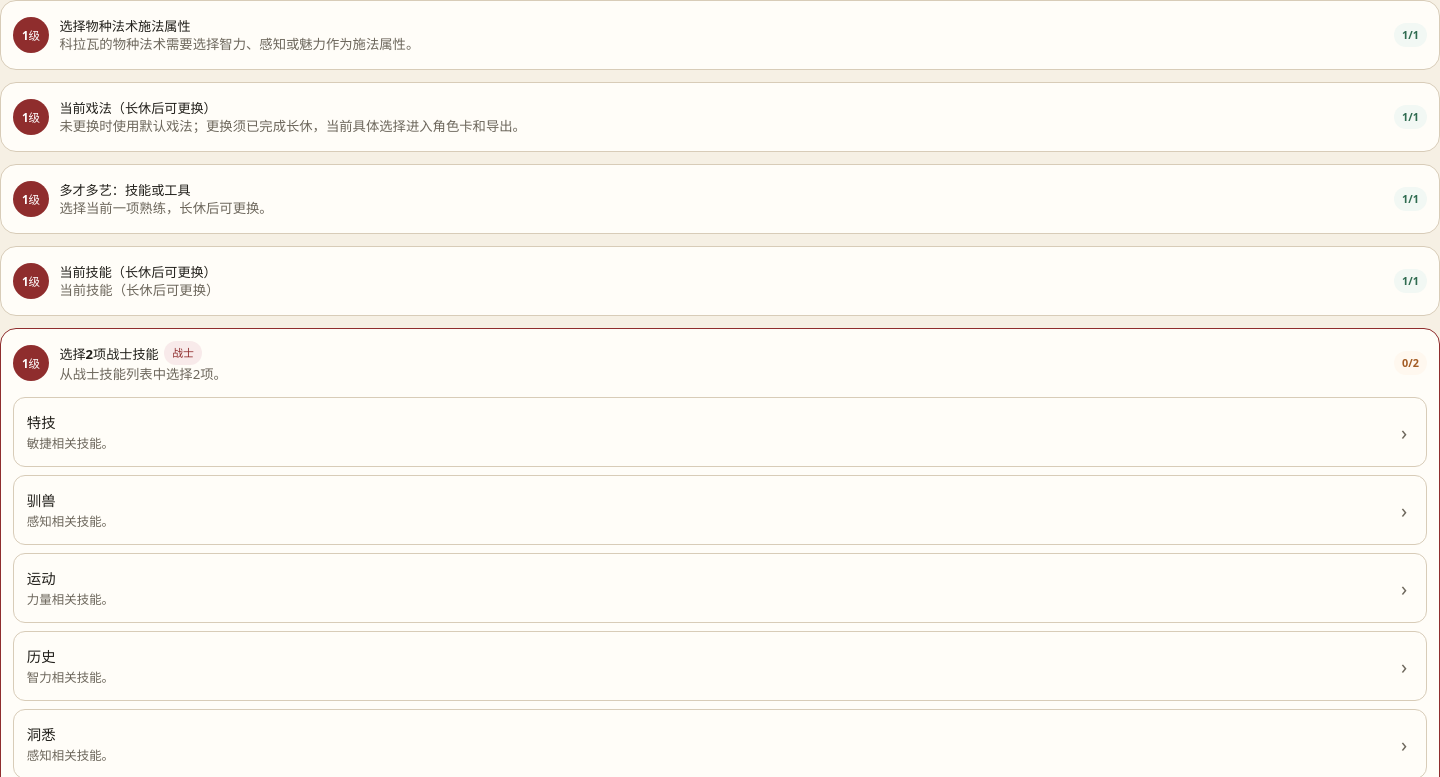
S08—S10物种页面与必选任务 › 默认交友术可见且可更换为实际中文戏法，不显示裸ID
The image size is (1440, 777).
Step 1. Click the button "1级 当前戏法（长休后可更换） 未更换时使用默认戏法；更换须已完成长休，当前具体选择进入角色卡和导出。 1/1" → (31, 117), box x1=13 y1=95 x2=1427 y2=139
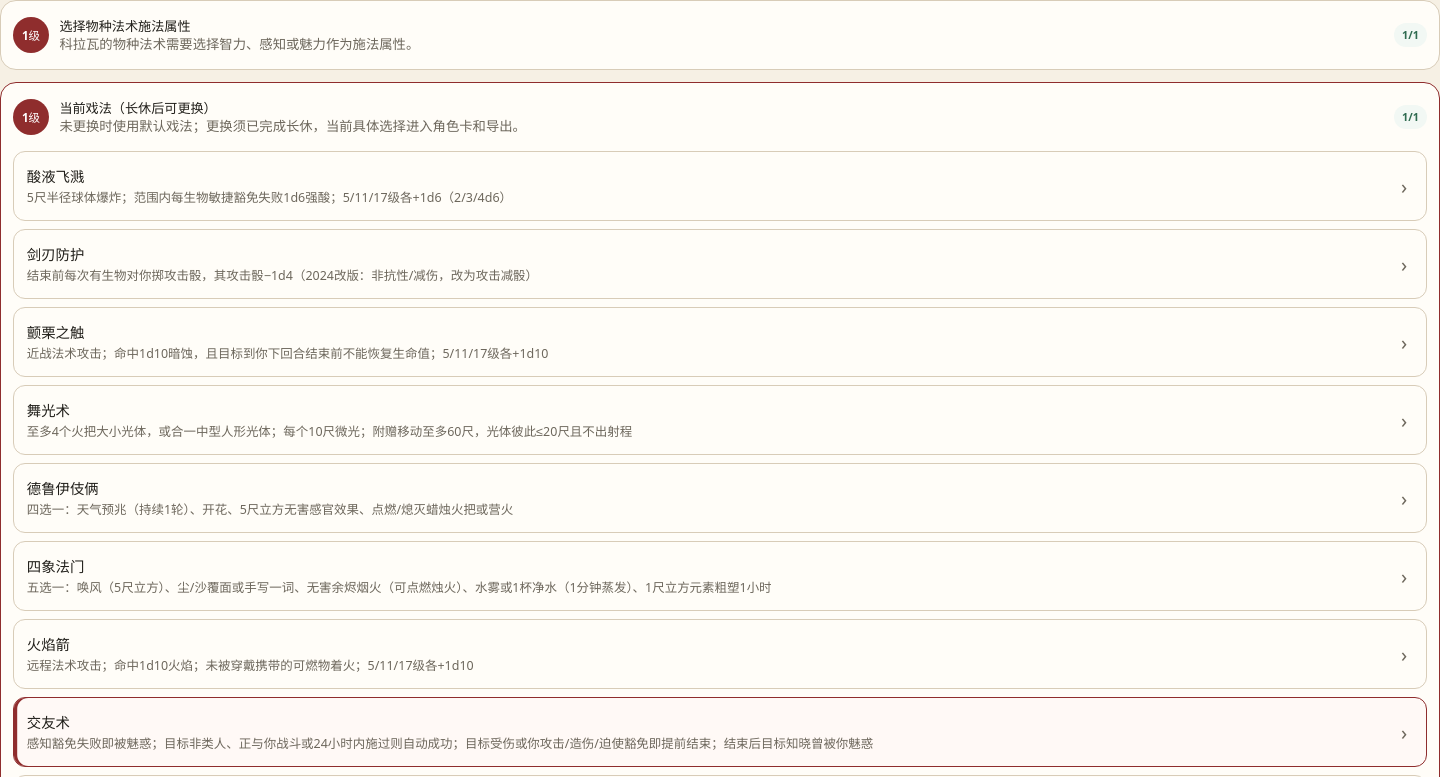
Expected: the text "长休" is shown, x1=59 y1=98 x2=217 y2=117
Now the text "交友术" is shown, box x1=27 y1=711 x2=70 y2=732
